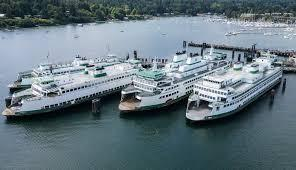Ship: (3, 61, 142, 117), (120, 50, 229, 113), (187, 58, 283, 122), (9, 56, 126, 93)
